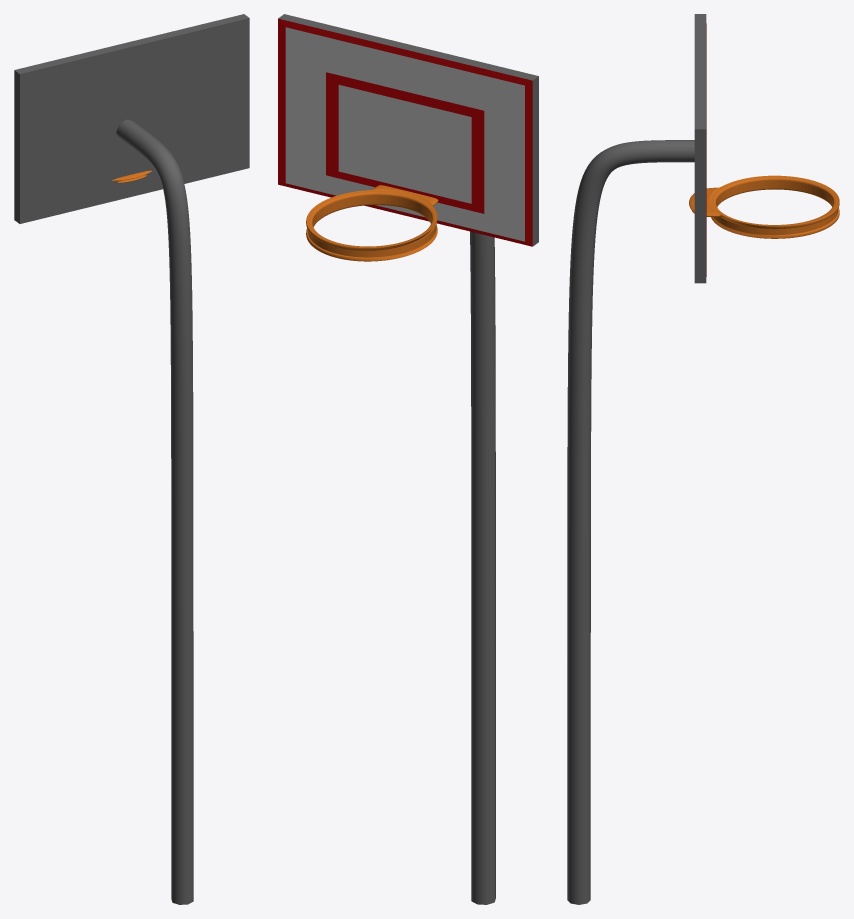
The model's file is Basketball_Poll 1.fbx.
3 views of the same model, side by side, from view 1: azimuth 30°, elevation 25°; view 2: azimuth 150°, elevation 25°; view 3: azimuth 270°, elevation 25° (orthographic). The views are drawn at different scales.
Visible parts, largest first — view 1: Cube, NurbsPath; view 2: Cube, NurbsPath, Cylinder; view 3: NurbsPath, Cylinder, Cube.
Part boxes in pixels (x1=…): Cube: x1=14, y1=14, x2=249, y2=223; NurbsPath: x1=116, y1=119, x2=193, y2=904; Cube: x1=278, y1=14, x2=538, y2=246; NurbsPath: x1=470, y1=231, x2=495, y2=904; Cylinder: x1=306, y1=185, x2=438, y2=261; NurbsPath: x1=567, y1=140, x2=694, y2=904; Cylinder: x1=689, y1=175, x2=839, y2=238; Cube: x1=694, y1=14, x2=706, y2=283.
Size of the model in its own units: 462 by 1557 by 462.
